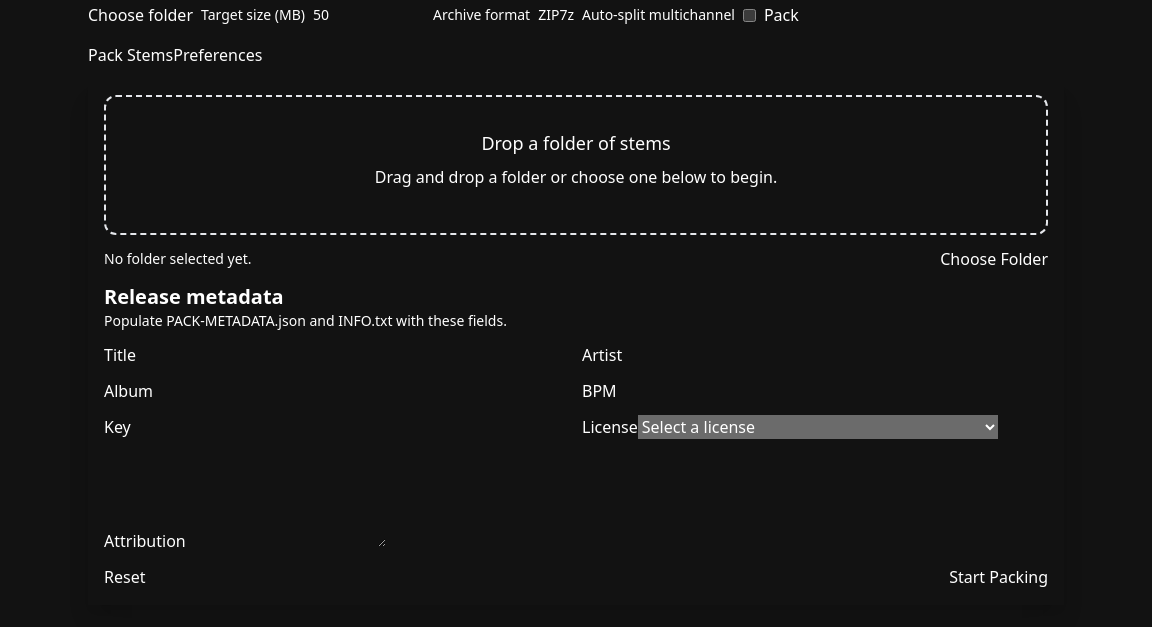
Test: overwrite / abort flow › aborts the selection and clears the UI when requested
Click the button "Choose Folder" at (994, 259), box [940,247,1048,271]
(page scrolled)
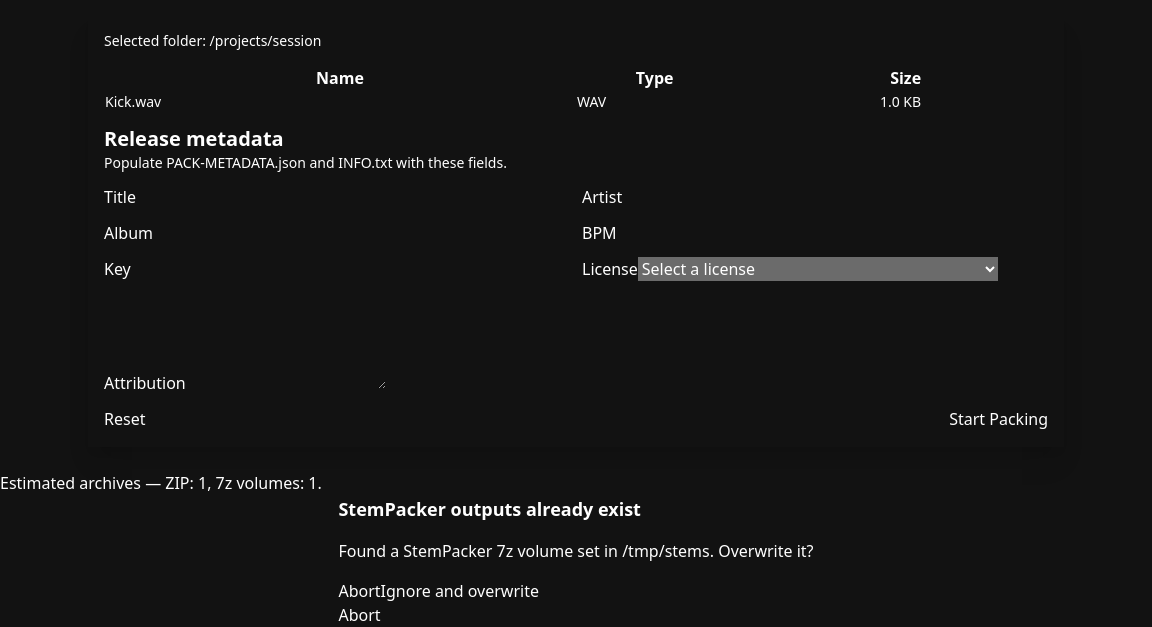
Result: the text "StemPacker outputs already exist" is shown at [338,497,641,521]
Result: the text "Kick.wav" is shown at [105,92,161,111]
Click the button "Abort" below "StemPacker outputs already exist" at (359, 591), box [338,579,380,603]
(page scrolled)
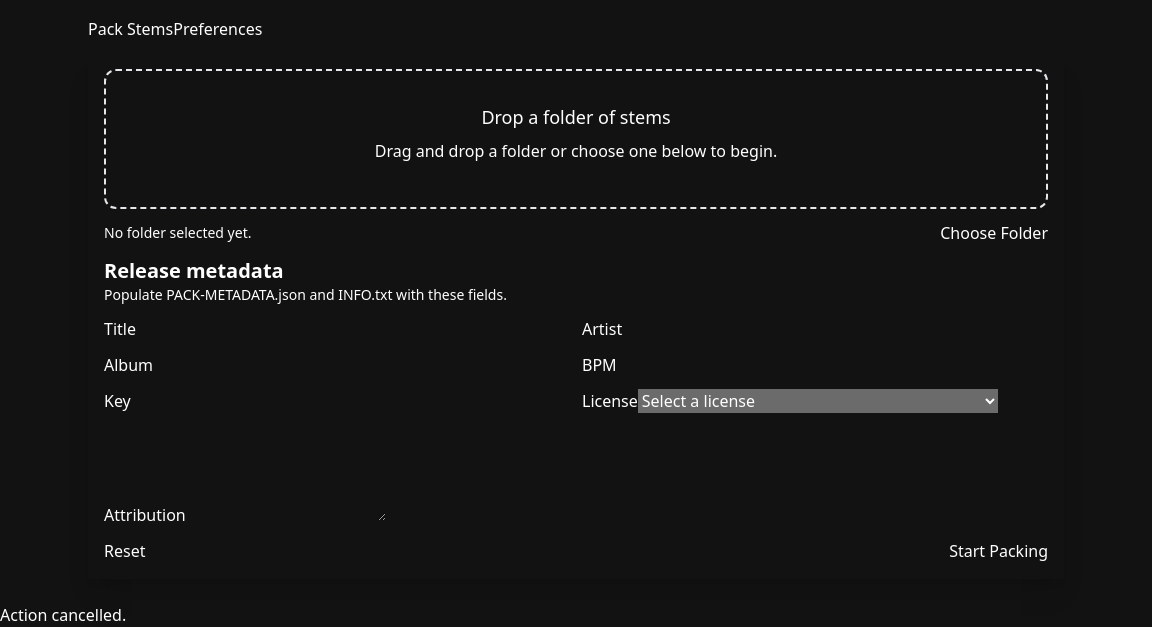
Result: the text "Action cancelled." is shown at [0,604,126,626]
Result: the text "Kick.wav" is not shown
